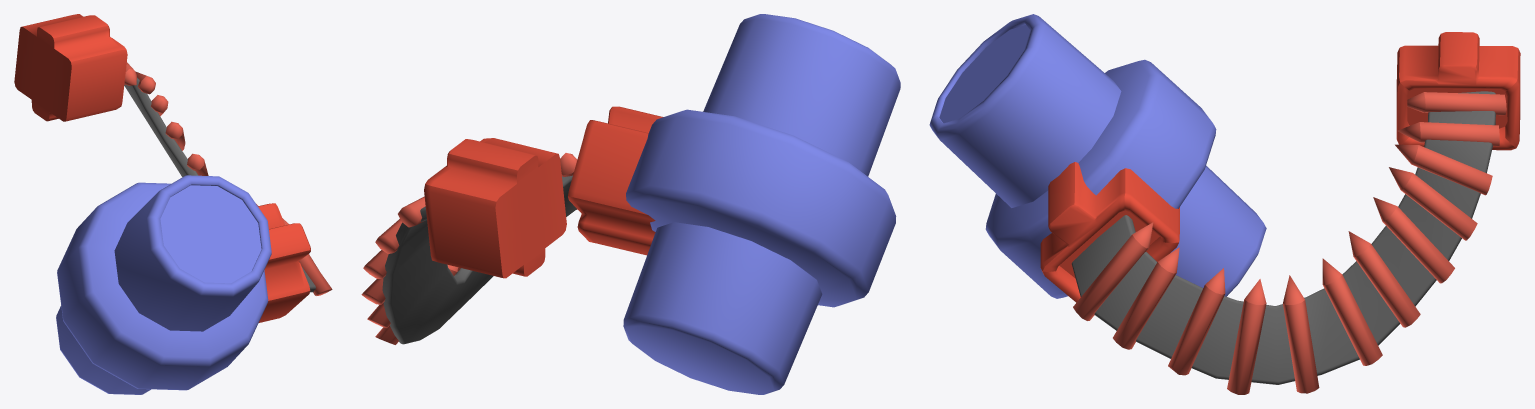
File: ammo_R.fbx
3 renders of one model, left to right at view 1: azimuth 30°, elevation 25°; view 2: azimuth 150°, elevation 25°; view 3: azimuth 270°, elevation 25°, orthographic. The views are drawn at different scales.
Parts seen in each view (by area): view 1: ammunition.001; view 2: ammunition.001; view 3: ammunition.001.
Part boxes in pixels (<box>): ammunition.001: <box>14,14,332,394</box>; ammunition.001: <box>361,14,900,394</box>; ammunition.001: <box>929,14,1520,394</box>.
Size of the model in its own units: 50.03 by 43.95 by 74.44.
